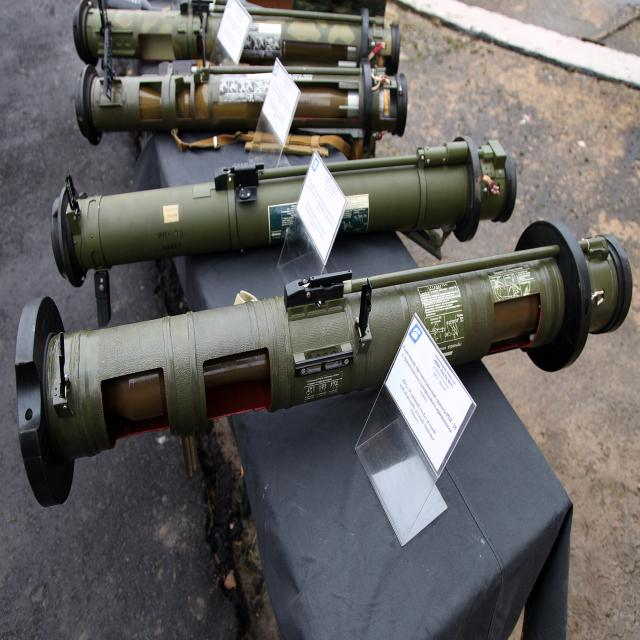bazooka: (12, 4, 640, 515)
